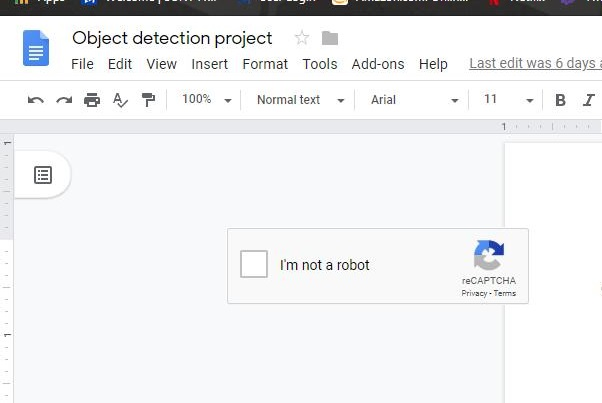captcha: (240, 250, 373, 279)
